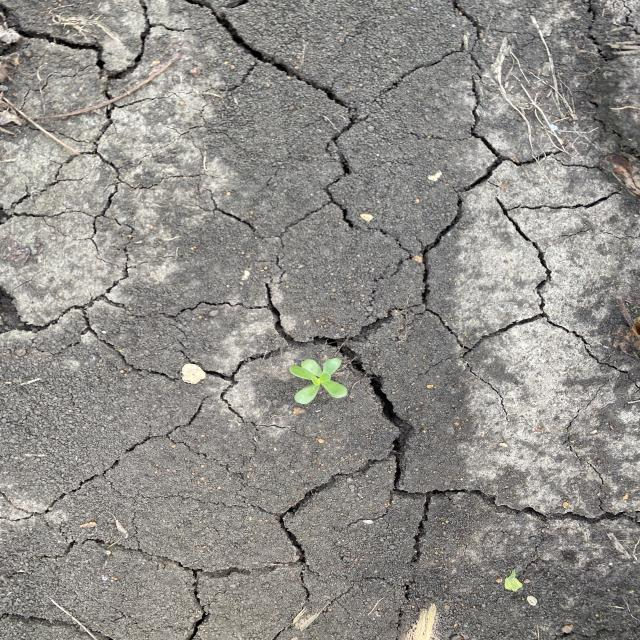Purslane: (288, 354, 352, 406)
